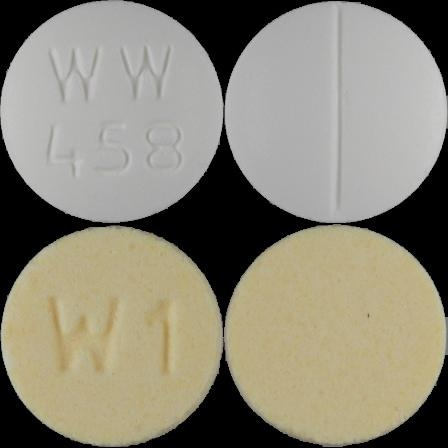0143-1458: (0, 0, 224, 224)
